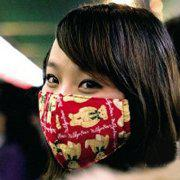OK: (38, 59, 137, 170)
